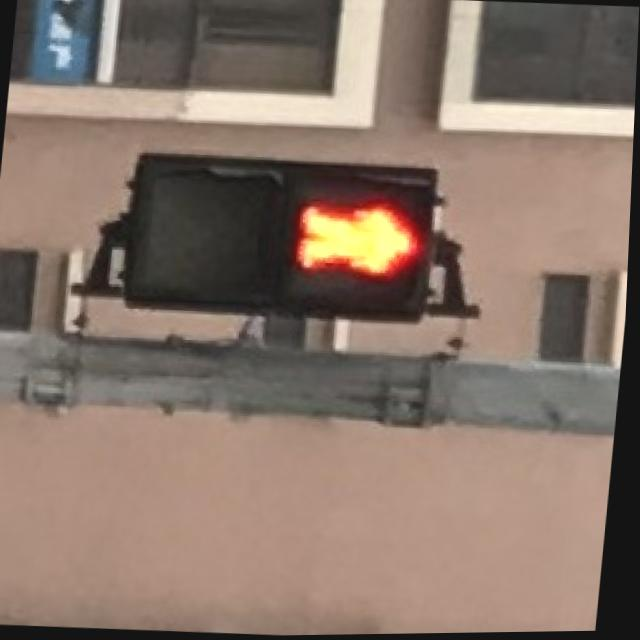red_light: (285, 162, 446, 315)
